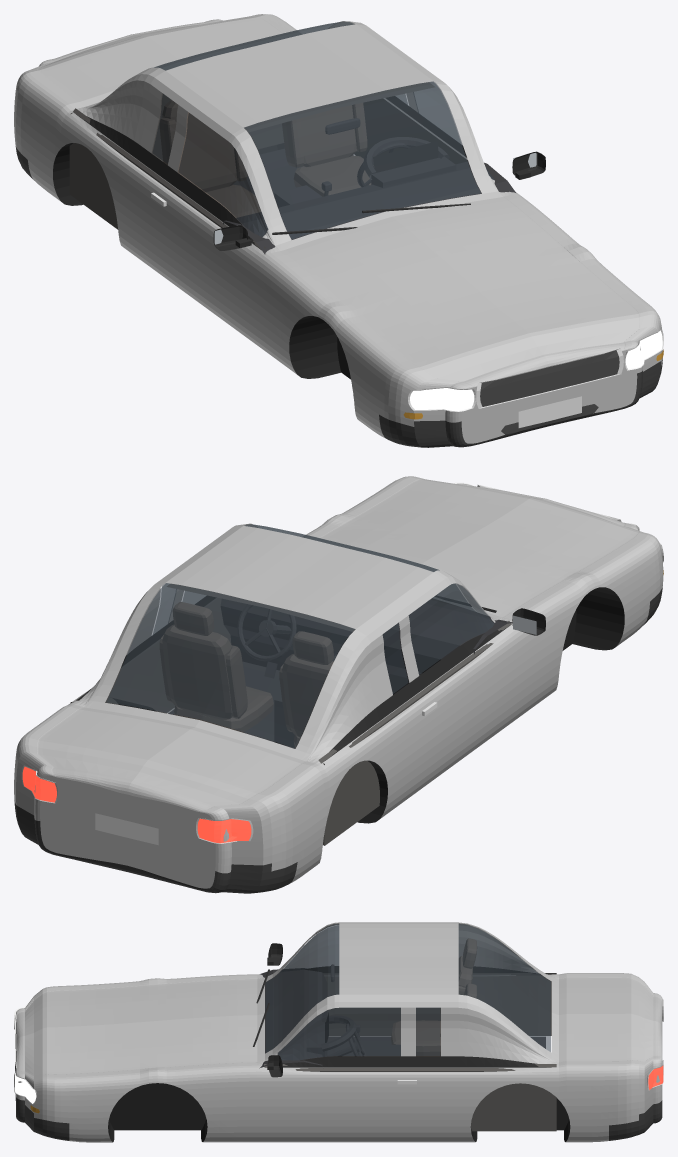
Rendered from car_bulldog.fbx.
3 views of the same model, one above another, from view 1: azimuth 30°, elevation 25°; view 2: azimuth 150°, elevation 25°; view 3: azimuth 270°, elevation 25° (orthographic). The views are drawn at different scales.
Visible parts, largest first — view 1: bulldog__hood, bulldog__glass, bulldog__roof, bulldog__trunk, bulldog__interior, bulldog__fenderFR, bulldog__seats, bulldog__doorR, bulldog__pillars, bulldog__cabin, bulldog__quarterR, bulldog__fascia (+11 smaller); view 2: bulldog__glass, bulldog__hood, bulldog__trunk, bulldog__roof, bulldog__seats, bulldog__rearPanel, bulldog__pillars, bulldog__interior, bulldog__doorR, bulldog__quarterR, bulldog__fenderFR, bulldog__cabin (+7 smaller); view 3: bulldog__hood, bulldog__glass, bulldog__doorL, bulldog__fenderFL, bulldog__trunk, bulldog__cabin, bulldog__quarterL, bulldog__roof, bulldog__pillars, bulldog__interior, bulldog__wells, bulldog__seals (+6 smaller).
Part boxes in pixels (<box>): bulldog__hood: <box>267,194,651,389</box>; bulldog__glass: <box>152,21,493,239</box>; bulldog__roof: <box>155,24,443,134</box>; bulldog__trunk: <box>25,14,515,254</box>; bulldog__interior: <box>223,118,515,254</box>; bulldog__fenderFR: <box>245,247,453,438</box>; bulldog__seats: <box>159,100,373,217</box>; bulldog__doorR: <box>133,165,257,341</box>; bulldog__pillars: <box>81,21,498,245</box>; bulldog__cabin: <box>69,82,467,249</box>; bulldog__quarterR: <box>14,72,144,259</box>; bulldog__fascia: <box>445,341,642,443</box>; bulldog__glass: <box>106,524,494,748</box>; bulldog__hood: <box>304,476,651,619</box>; bulldog__trunk: <box>25,597,512,817</box>; bulldog__roof: <box>155,526,444,635</box>; bulldog__seats: <box>159,602,333,748</box>; bulldog__rearPanel: <box>34,766,231,888</box>; bulldog__pillars: <box>79,523,497,758</box>; bulldog__interior: <box>168,598,512,748</box>; bulldog__doorR: <box>393,628,517,805</box>; bulldog__quarterR: <box>224,711,404,883</box>; bulldog__fenderFR: <box>506,535,663,722</box>; bulldog__cabin: <box>70,583,511,845</box>; bulldog__hood: <box>16,974,257,1080</box>; bulldog__glass: <box>265,924,550,1060</box>; bulldog__doorL: <box>272,1067,445,1142</box>; bulldog__fenderFL: <box>25,1067,272,1142</box>; bulldog__trunk: <box>257,973,662,1067</box>; bulldog__cabin: <box>264,973,556,1131</box>; bulldog__quarterL: <box>446,1060,653,1142</box>; bulldog__roof: <box>339,922,458,1001</box>; bulldog__pillars: <box>265,922,551,1063</box>; bulldog__interior: <box>259,964,545,1068</box>; bulldog__wells: <box>108,1083,570,1141</box>; bulldog__seals: <box>265,966,551,1067</box>.
Bounding box in the file's own units: 2.24 × 1.2 × 5.02.
